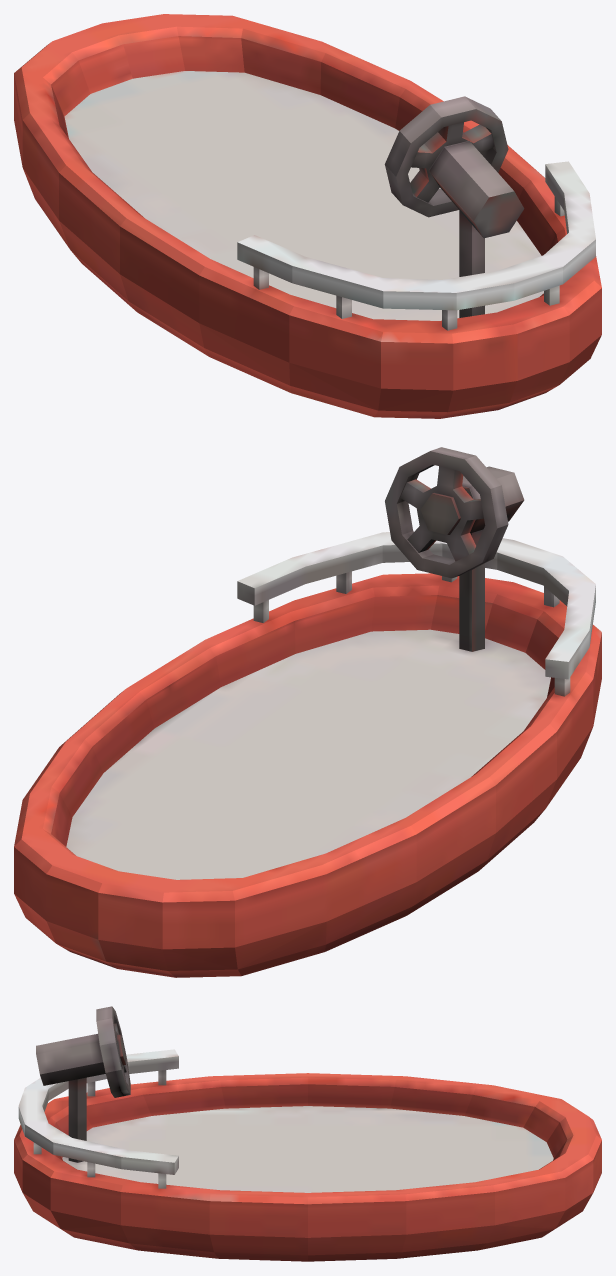
Rendered from SM_chuan-lv2.glb.
3 views of the same model, one above another, from view 1: azimuth 30°, elevation 25°; view 2: azimuth 150°, elevation 25°; view 3: azimuth 270°, elevation 25° (orthographic). The views are drawn at different scales.
Parts seen in each view (by area): view 1: SM_chuan-lv2-1; view 2: SM_chuan-lv2-1; view 3: SM_chuan-lv2-1.
Part boxes in pixels (x1=…): SM_chuan-lv2-1: x1=14, y1=14, x2=601, y2=418; SM_chuan-lv2-1: x1=14, y1=447, x2=601, y2=977; SM_chuan-lv2-1: x1=14, y1=1006, x2=601, y2=1261.
Size of the model in its own units: 2.45 by 1.7 by 4.74.
Materials: 1 (1 with a texture image).
